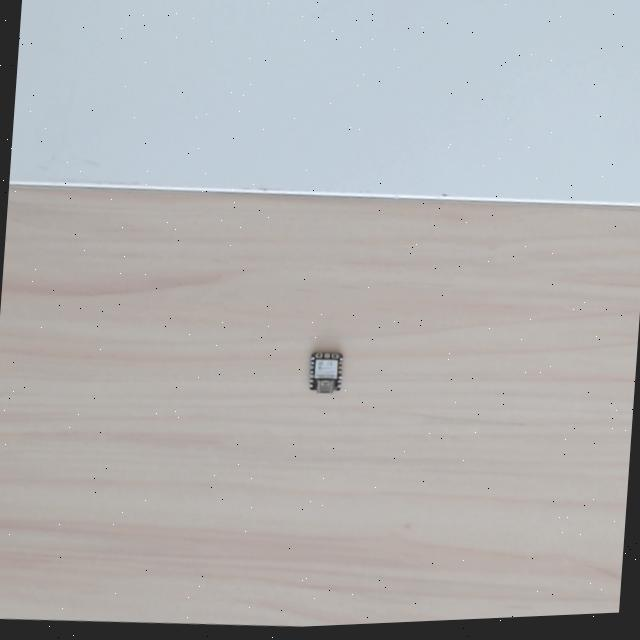ESP32C3-Xiao: (308, 350, 345, 396)
